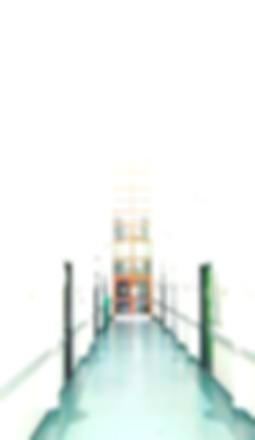Puerta: (117, 276, 155, 319), (201, 269, 212, 368), (67, 261, 76, 378), (94, 277, 102, 334)
